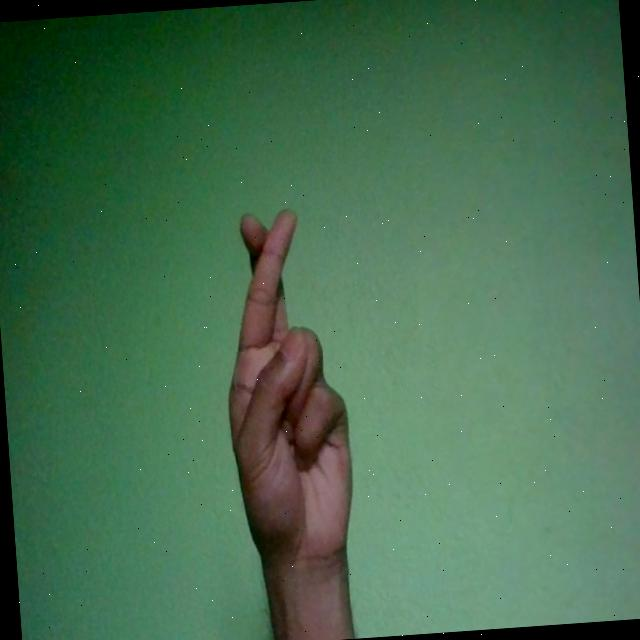Ok: (217, 206, 361, 574)
